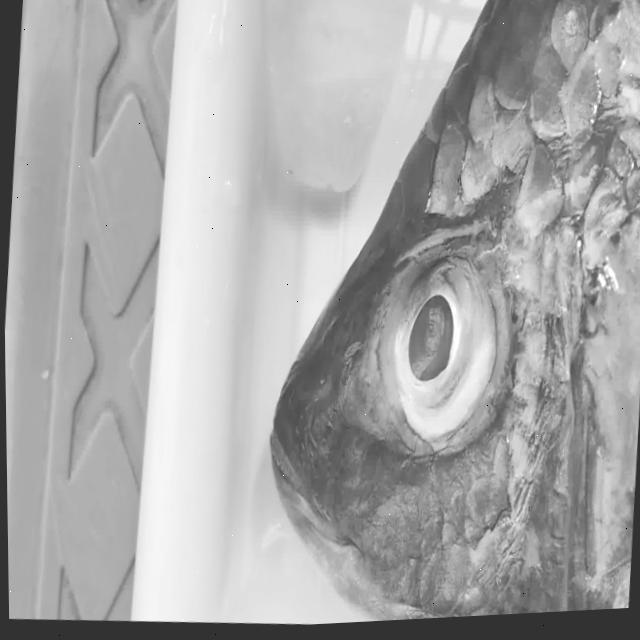Fresh: (357, 156, 536, 494)
